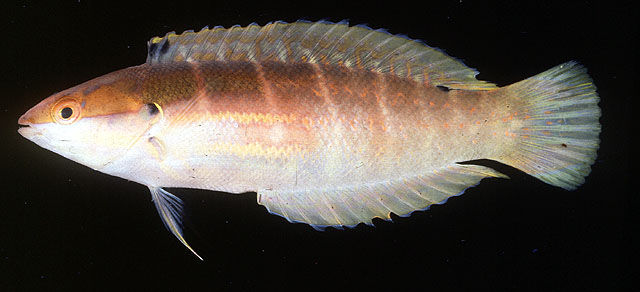fish: (17, 20, 601, 261)
